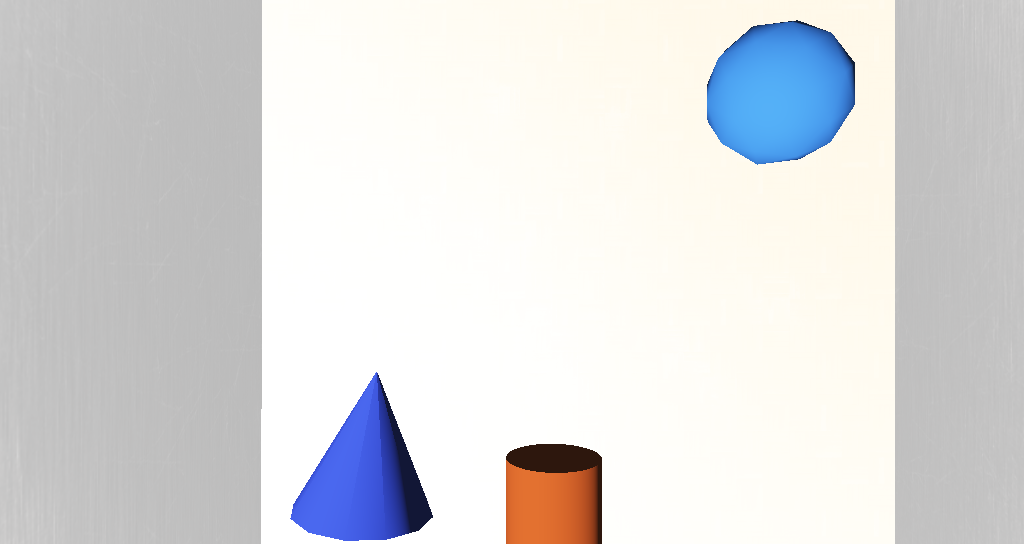cone: (472, 327, 512, 379)
cylinder: (374, 298, 448, 351)
sphere: (563, 186, 623, 234)
